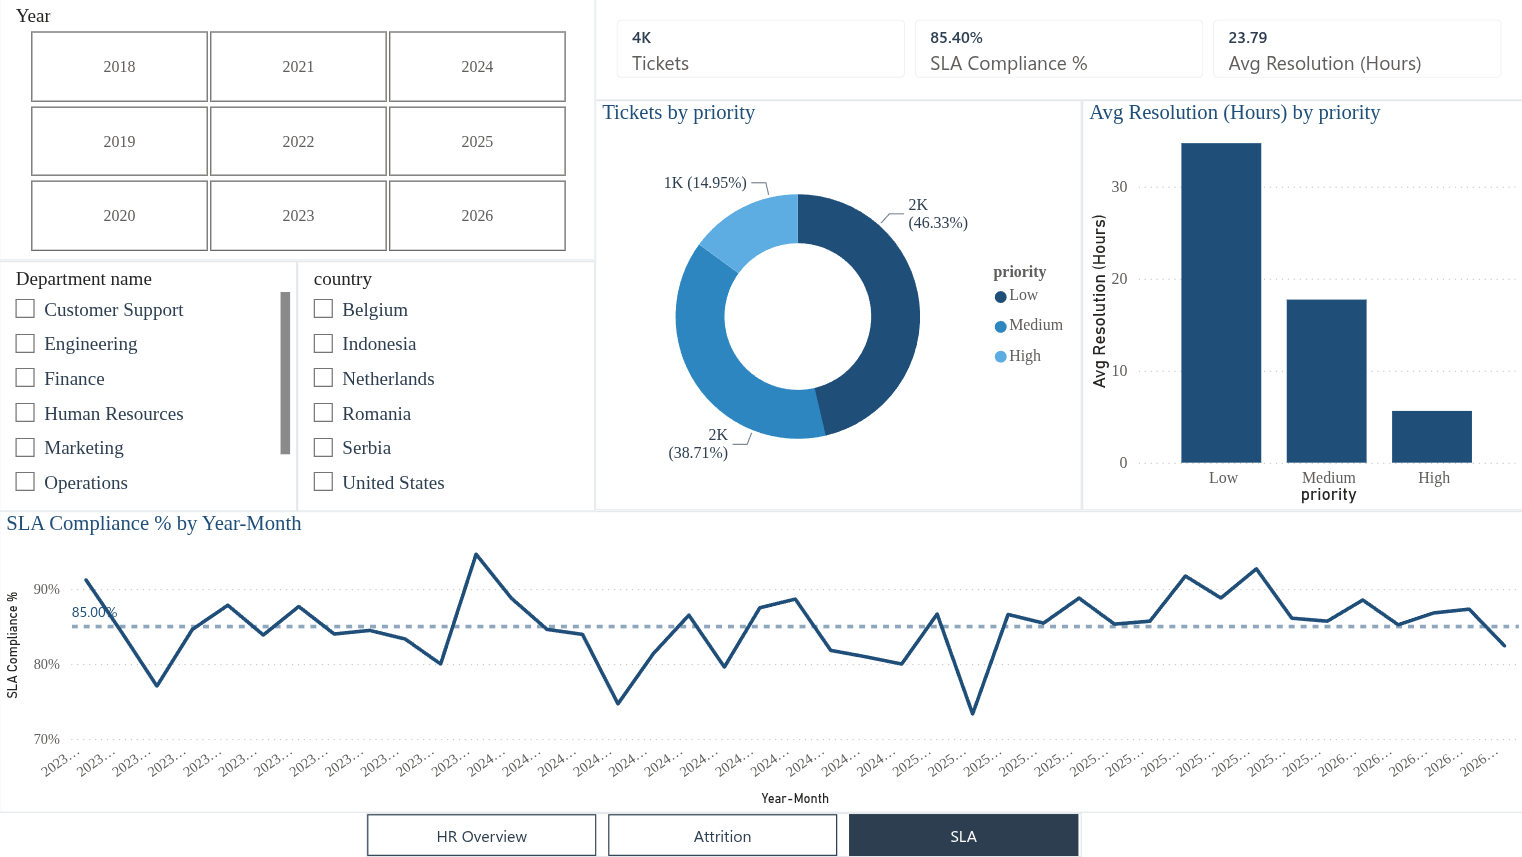

This screenshot's page, from the dashboard's own definition file:
{"tool":"powerbi","page":{"name":"SLA","canvas":[1280,720],"ordinal":2},"visuals":[{"type":"cardVisual","fields":{"Data":["_Measures.Tickets","_Measures.SLA Compliance %","_Measures.Avg Resolution (Hours)"]},"box":[500,0,779.9,85.7],"z":0},{"type":"donutChart","fields":{"Category":["FactTickets.priority"],"Y":["_Measures.Tickets"]},"box":[500,85.7,408,344],"z":1000},{"type":"clusteredColumnChart","fields":{"Category":["FactTickets.priority"],"Y":["_Measures.Avg Resolution (Hours)"]},"box":[908,85.7,371.9,344],"z":2000},{"type":"lineChart","fields":{"Category":["Dim_Date.Year-Month"],"Y":["_Measures.SLA Compliance %"]},"box":[0,429.7,1279.9,253.1],"z":3000},{"type":"slicer","fields":{"Values":["Dim_Date.Year"]},"box":[0,0,500,220],"z":4000},{"type":"slicer","fields":{"Values":["Dim_Department.department_name"]},"box":[0,220,250,209.7],"z":5000},{"type":"slicer","fields":{"Values":["Dim_Location.country"]},"box":[250,220,250,209.7],"z":6000},{"type":"pageNavigator","box":[307.8,682.8,600.2,37.2],"z":7000}]}

Visuals, with their boxes in screenshot pixels (x1, y1, x2, y2), scaled from the page's 1280x720 canvas onto the 1522x857 screenshot:
cardVisual - _Measures.Tickets x _Measures.SLA Compliance %: pyautogui.locateOnScreen(595, 0, 1521, 102)
donutChart - FactTickets.priority x _Measures.Tickets: pyautogui.locateOnScreen(595, 102, 1080, 511)
clusteredColumnChart - FactTickets.priority x _Measures.Avg Resolution (Hours): pyautogui.locateOnScreen(1080, 102, 1521, 511)
lineChart - Dim_Date.Year-Month x _Measures.SLA Compliance %: pyautogui.locateOnScreen(0, 511, 1521, 813)
slicer - Dim_Date.Year: pyautogui.locateOnScreen(0, 0, 595, 262)
slicer - Dim_Department.department_name: pyautogui.locateOnScreen(0, 262, 297, 511)
slicer - Dim_Location.country: pyautogui.locateOnScreen(297, 262, 595, 511)
pageNavigator: pyautogui.locateOnScreen(366, 813, 1080, 856)
